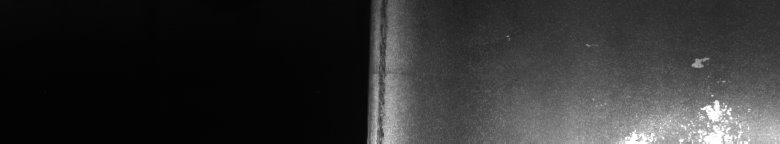kb: (586, 44, 732, 136)
